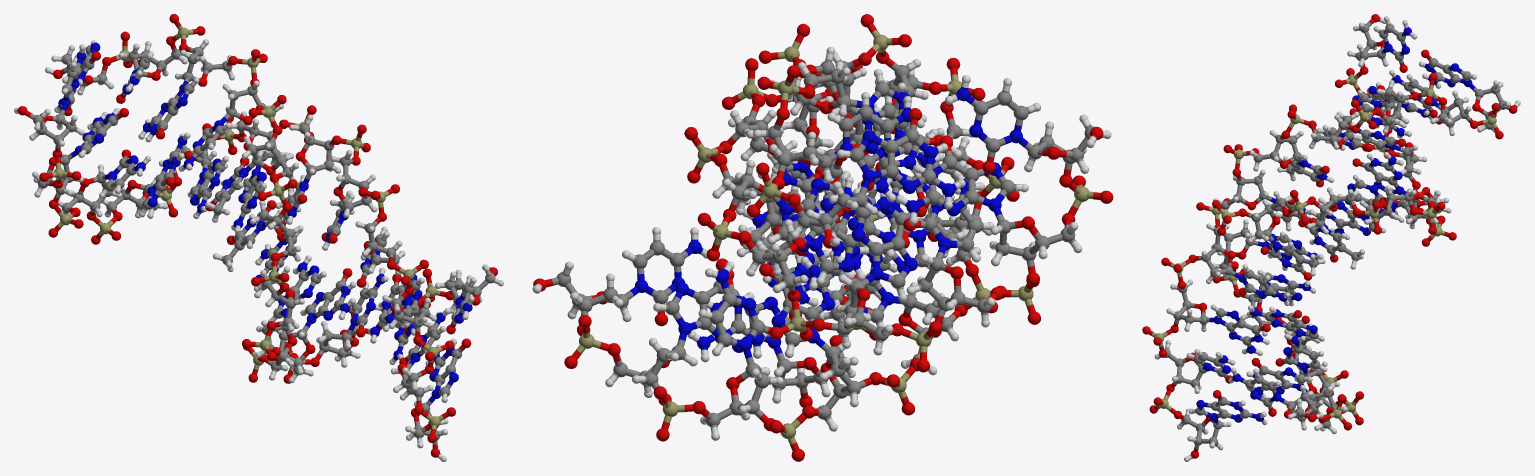
Rendered from dna.fbx.
The picture shows the model from 3 angles, left to right: view 1: azimuth 30°, elevation 25°; view 2: azimuth 150°, elevation 25°; view 3: azimuth 270°, elevation 25°; orthographic projection. The views are drawn at different scales.
Visible parts, largest first — view 1: vmd_mol0_rep0; view 2: vmd_mol0_rep0; view 3: vmd_mol0_rep0.
Part boxes in pixels (box(x1,y1,x2,y2)): vmd_mol0_rep0: box(14, 14, 503, 461); vmd_mol0_rep0: box(532, 14, 1113, 461); vmd_mol0_rep0: box(1142, 14, 1520, 461).
Bounding box in the file's own units: 138 × 114 × 116.
